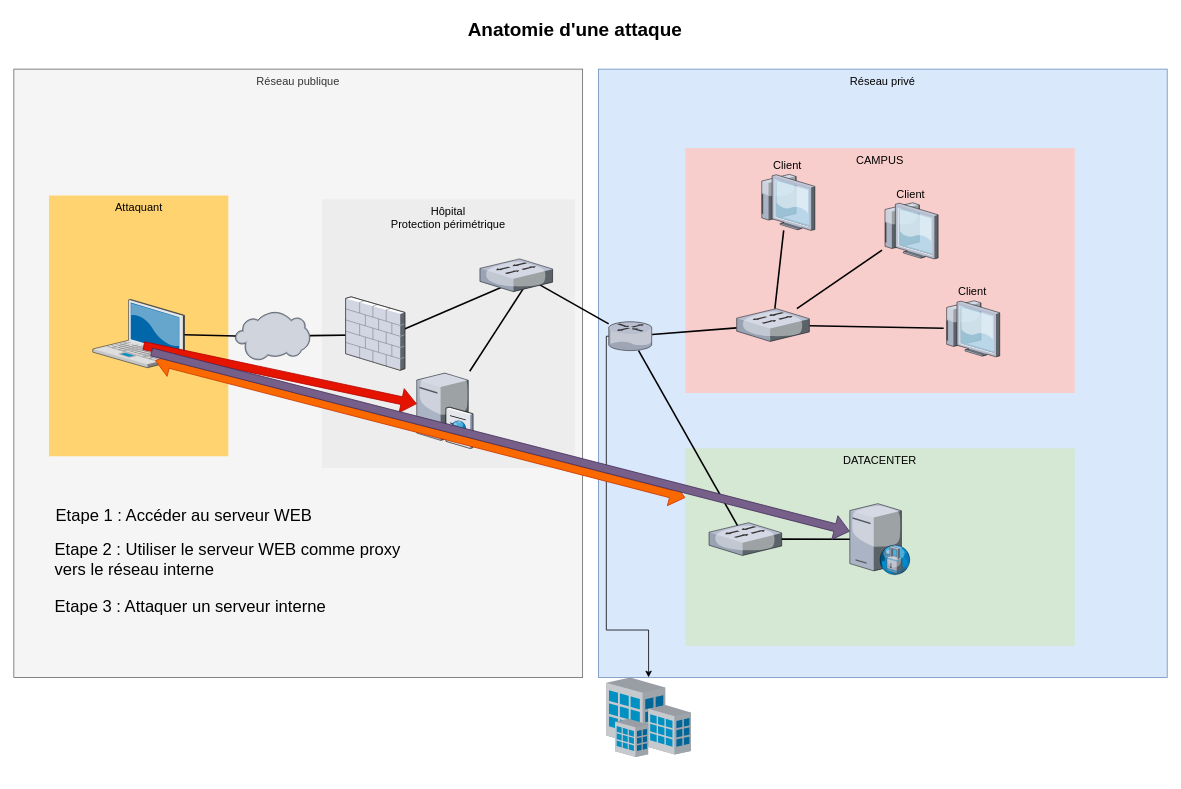
This 1181x789 diagram has some shape labels left out. Here are the shapes that lost their labels. From the top down, the centre of each, then its label:
At point 444,409: "SRV-WEB".
At point 879,538: "SRV-2008".
At point 648,717: "VPN Autres Hôpitaux".
